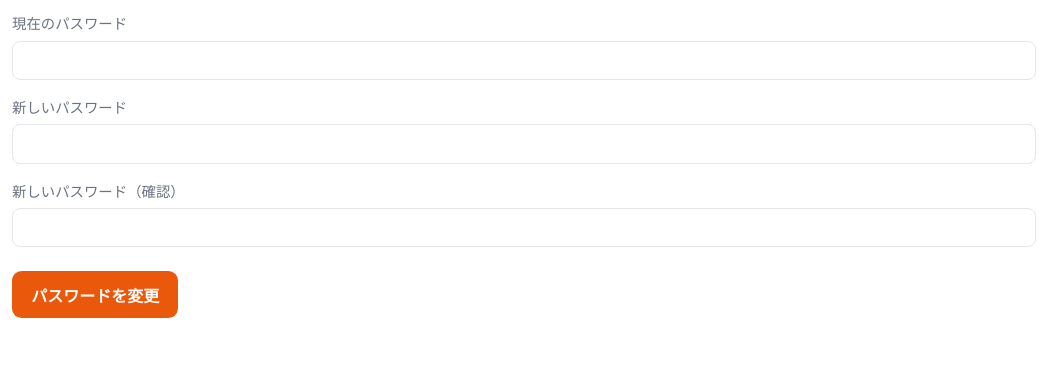
Test: ChangePasswordForm › 現在PWが誤り (auth/wrong-password) はその旨を表示、updatePassword を呼ばない
The width and height of the screenshot is (1048, 366).
Type "bad" into the password field labelled "現在のパスワード".
click(524, 60); type("bad")  # box [12,41,1036,80]
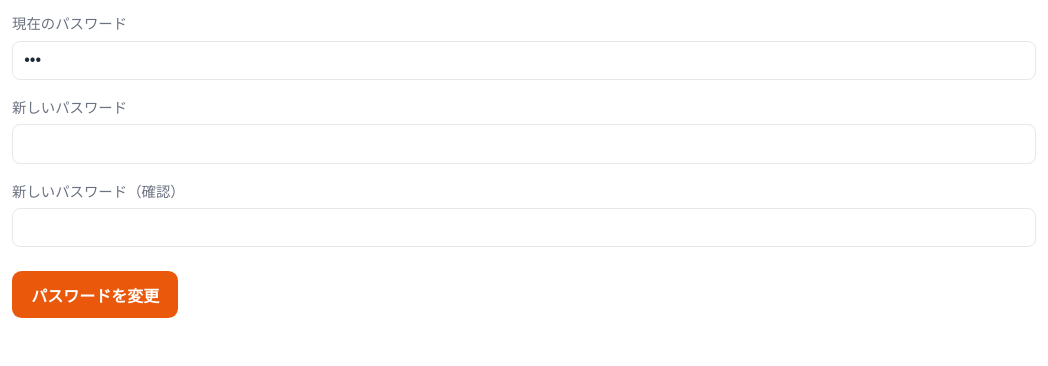
Type "newpassword1" into the password field labelled "新しいパスワード".
click(524, 144); type("newpassword1")  # box [12,124,1036,164]
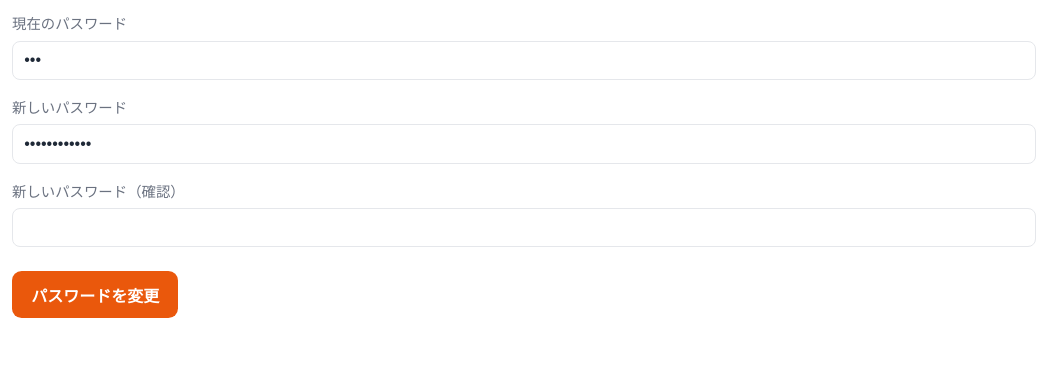
Type "newpassword1" into the password field labelled "新しいパスワード（確認）".
click(524, 228); type("newpassword1")  # box [12,208,1036,248]
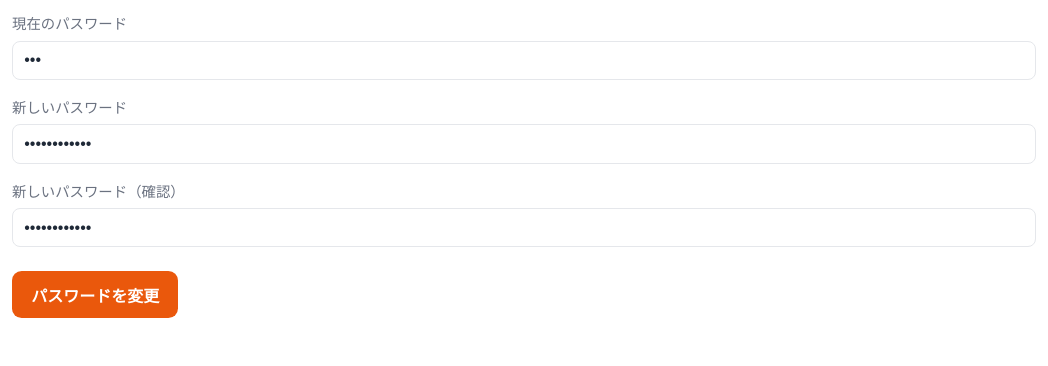
Click the button "パスワードを変更".
click(95, 295)  # box [12,272,178,318]
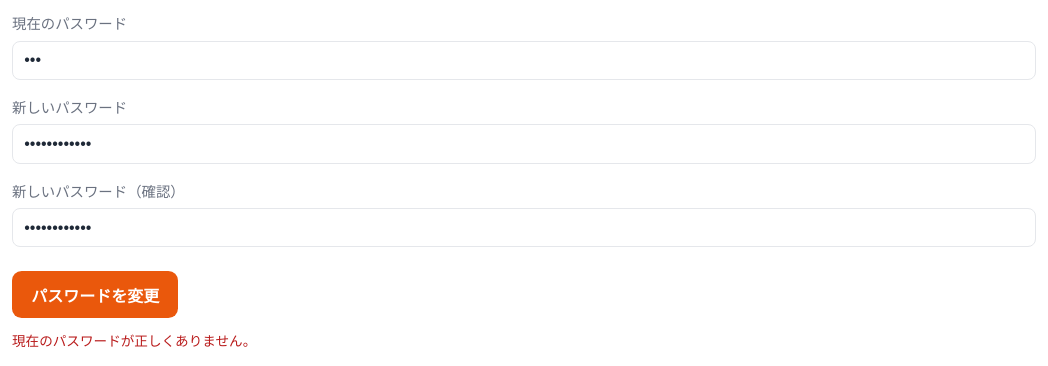
expect the text "現在のパスワードが正しくありません。" is shown: met, box [12,331,256,350]
